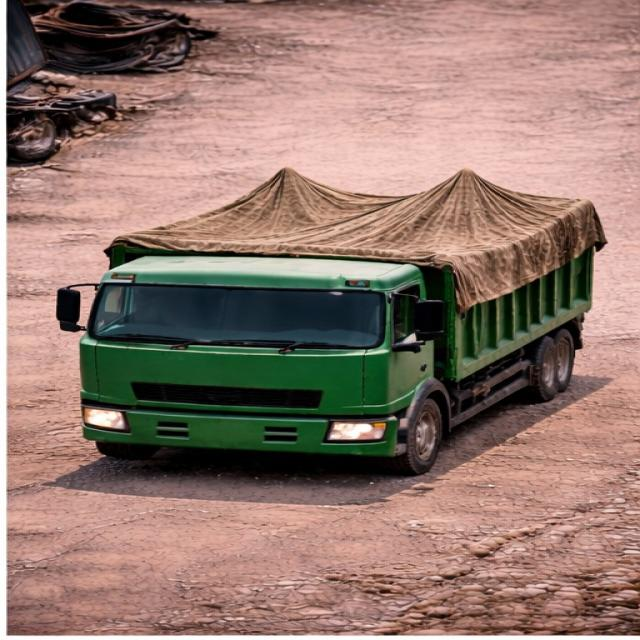Box: (116, 173, 604, 248)
Truck: (48, 147, 627, 464)
